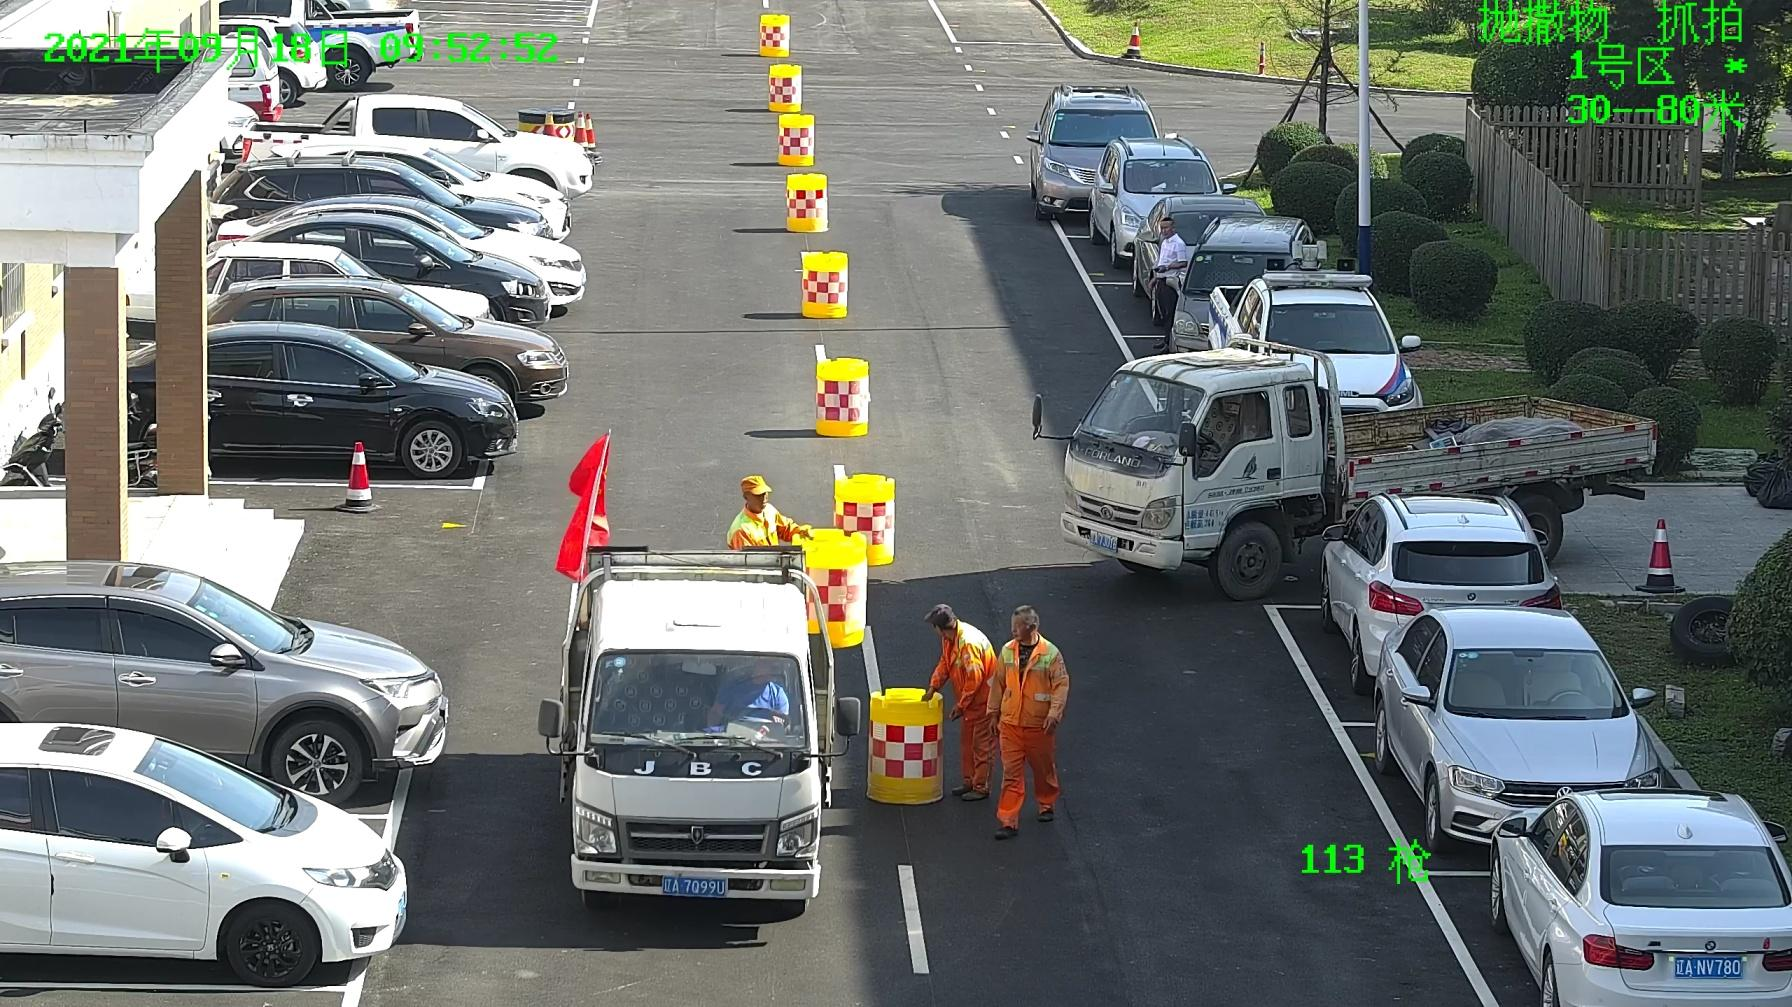cone_barrel: (865, 696, 939, 804), (798, 531, 864, 646), (834, 475, 894, 568), (814, 359, 869, 439), (798, 254, 846, 318), (783, 174, 825, 231), (766, 62, 801, 112), (761, 11, 788, 60)
